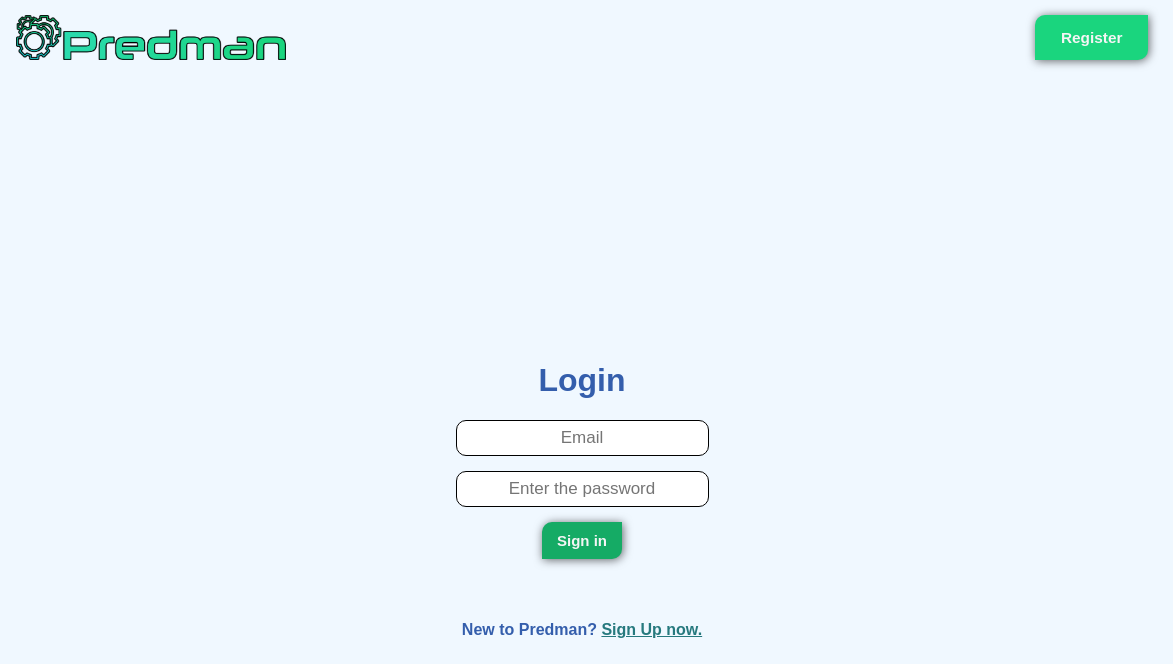
Test: Login component › displays error message for 404
Type "wrong@example.com" into the field with placeholder "Email" at (582, 438), box [456,420,708,456]
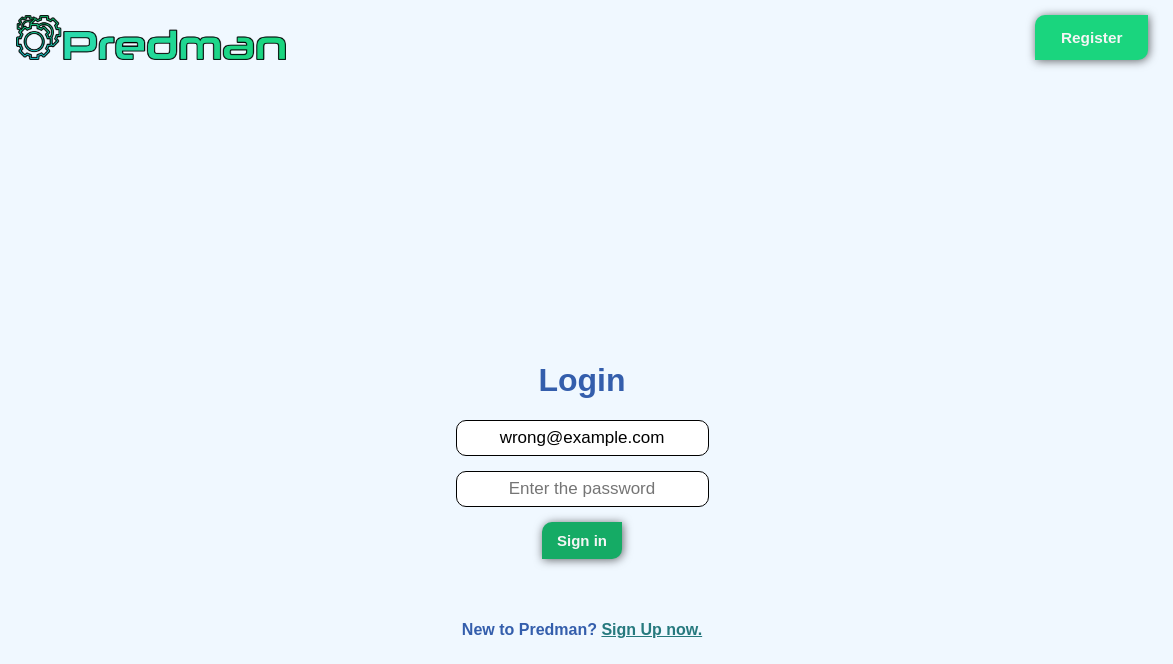
Type "wrongpass" into the password field with placeholder "Enter the password" at (582, 489), box [456,471,708,507]
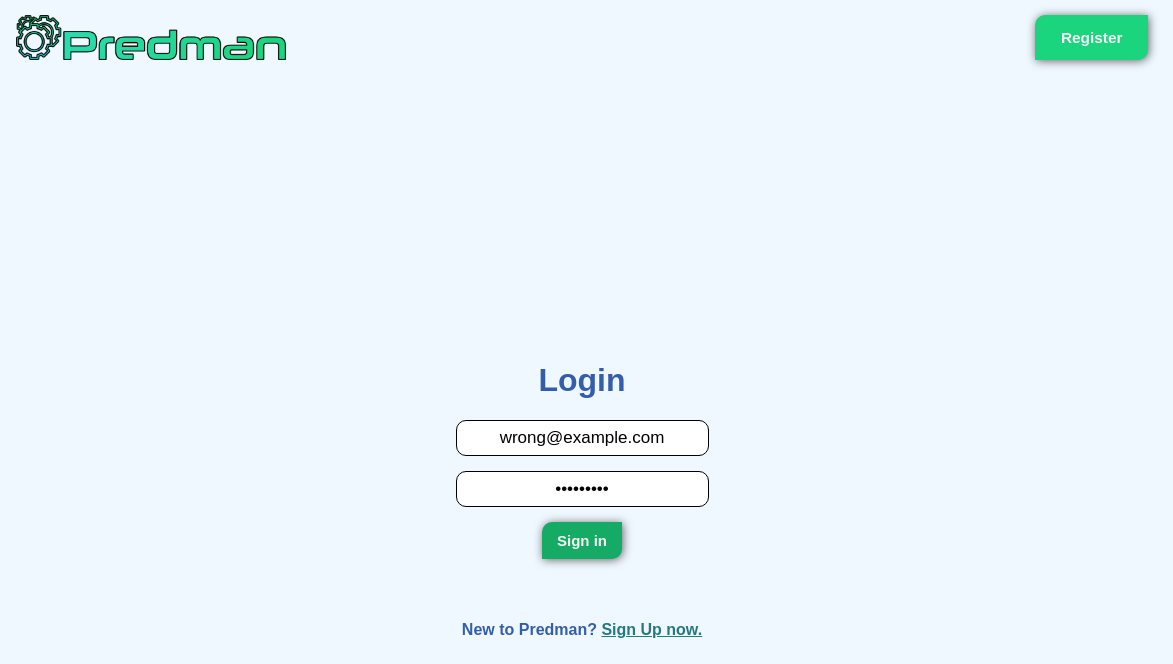
Click the button "Sign in" at (582, 541), box [542,522,622,559]
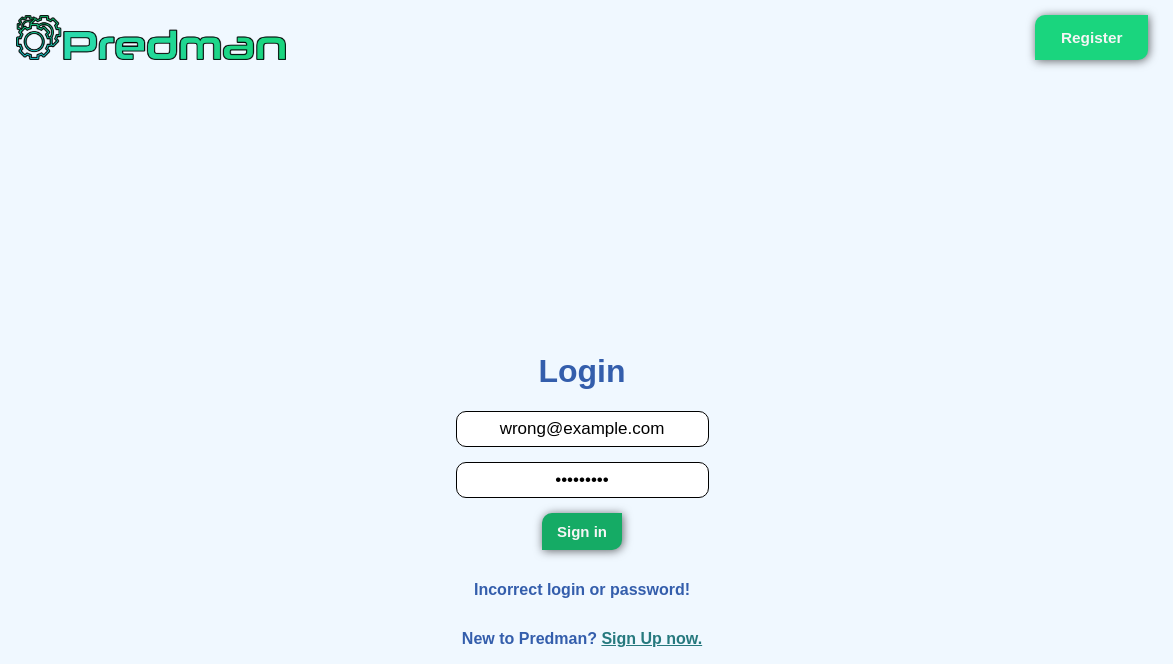
Now the text "Incorrect login or password!" is shown, box [474,581,690,599]
